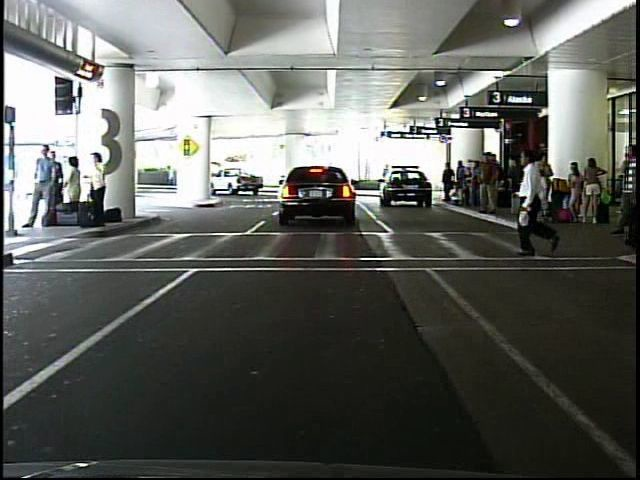person: (512, 140, 569, 265), (27, 140, 64, 235), (64, 153, 89, 225), (92, 148, 114, 229), (440, 162, 456, 206), (164, 162, 178, 190)
